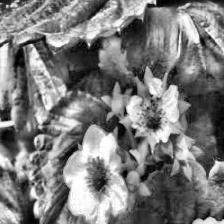Blossom Blight: (132, 99, 170, 138)
